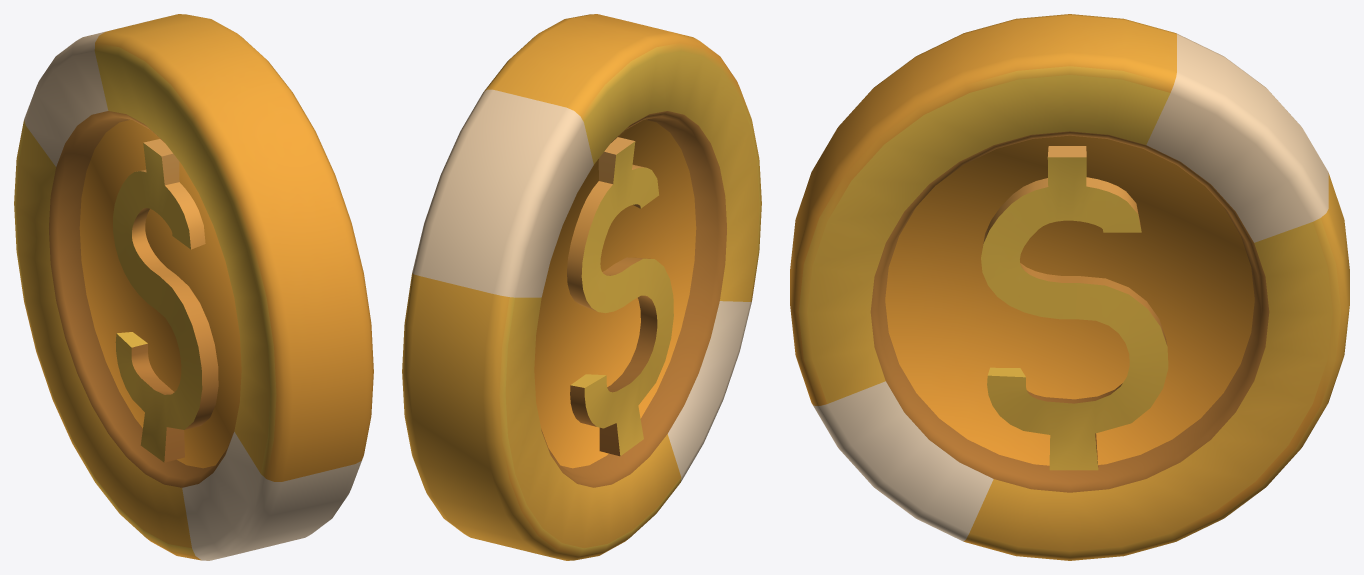
The model's file is CoinModel.fbx.
3 views of the same model, side by side, from view 1: azimuth 30°, elevation 25°; view 2: azimuth 150°, elevation 25°; view 3: azimuth 270°, elevation 25° (orthographic). The views are drawn at different scales.
Parts seen in each view (by area): view 1: Circle, BézierCurve.001; view 2: Circle, BézierCurve.001; view 3: Circle, BézierCurve.
Boxes of the visible parts, x1,y1,x2,y2 form: Circle: (14, 14, 373, 560); BézierCurve.001: (113, 139, 218, 462); Circle: (402, 14, 761, 560); BézierCurve.001: (567, 137, 673, 456); Circle: (790, 14, 1349, 560); BézierCurve: (981, 146, 1168, 470).
Bounding box in the file's own units: 0.4318 × 2 × 2.
